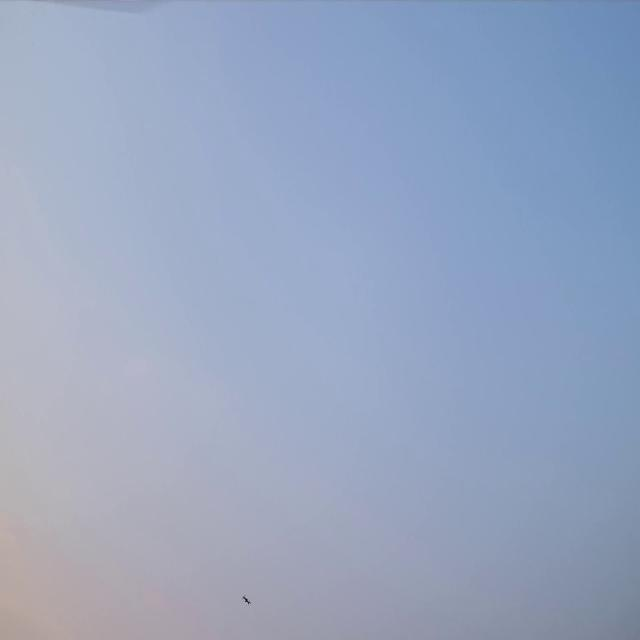UAV: (242, 596, 250, 603)
